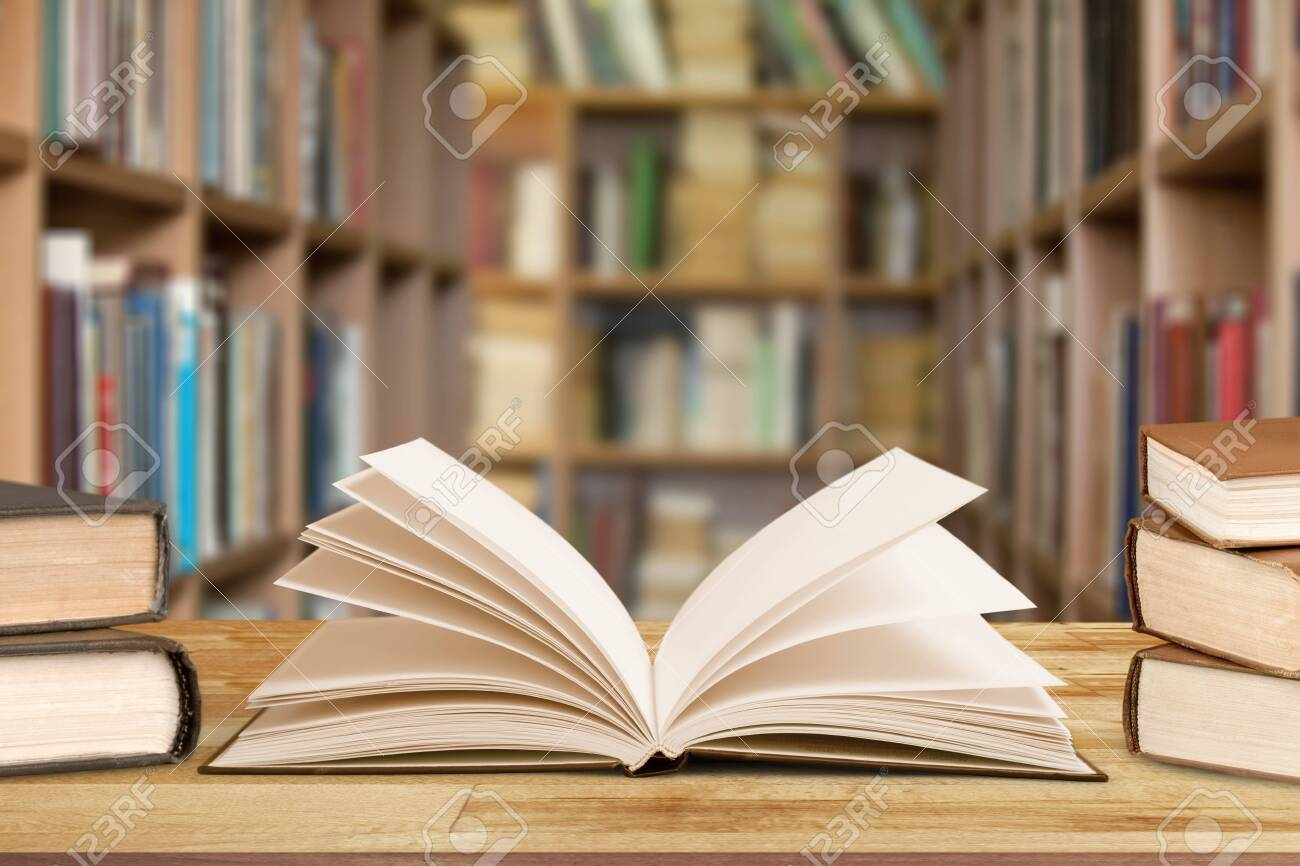Open Book: (237, 433, 1103, 788)
